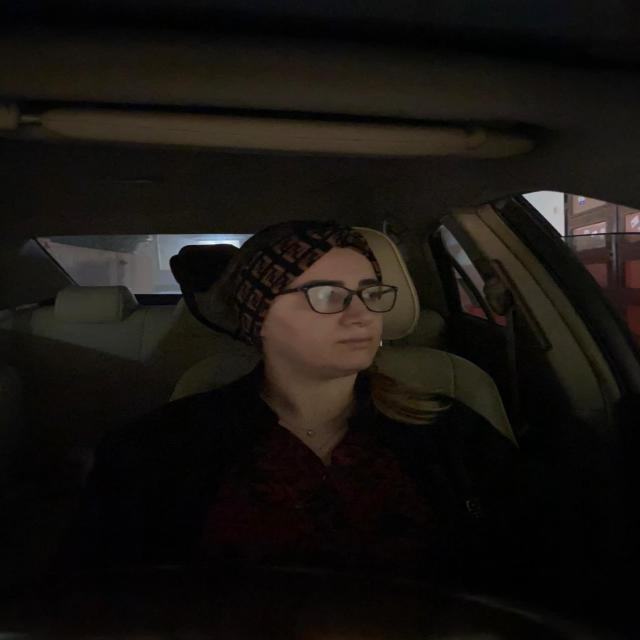LeftRight: (214, 205, 421, 405)
